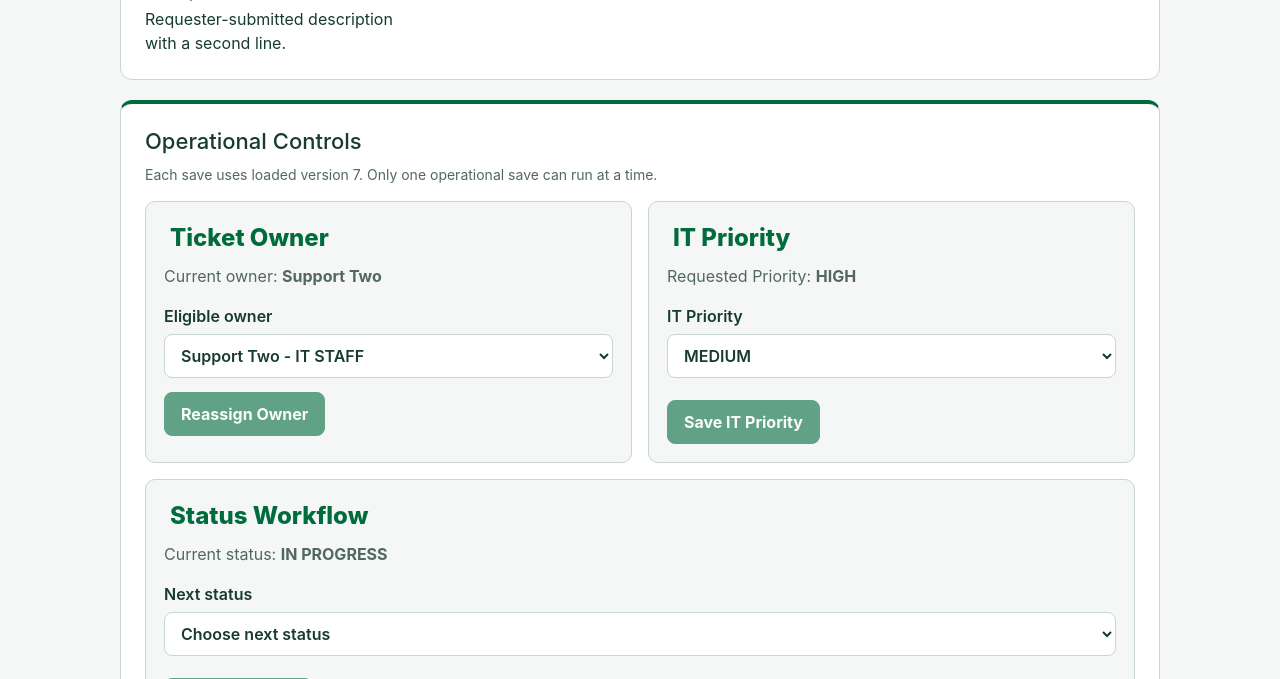
Test: UI-06 integrated Staff Ticket Detail › traps confirmation focus, closes with Escape, and returns focus to the invoking action
The width and height of the screenshot is (1280, 679).
(page scrolled)
Select "Admin Owner - ADMINISTRATOR" in the dropdown labelled "Eligible owner" at (388, 356), box [164, 334, 613, 378]
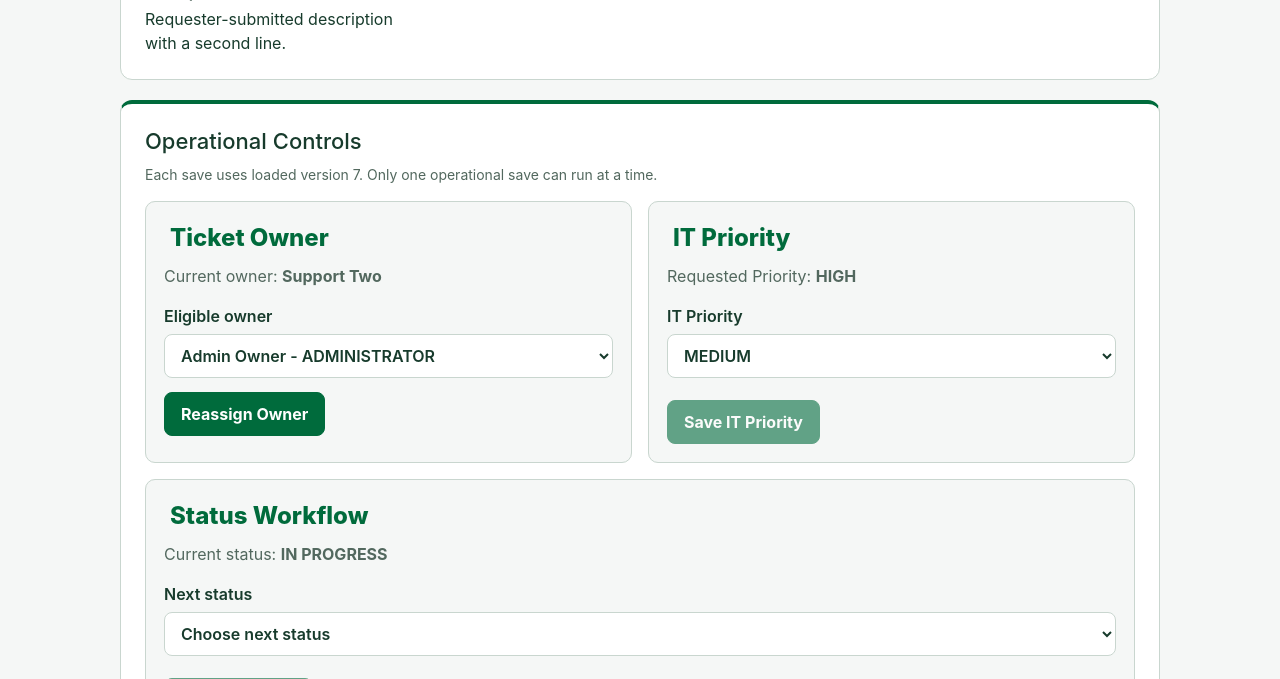
Click the button "Reassign Owner".
click(245, 414)  # box [164, 392, 325, 436]
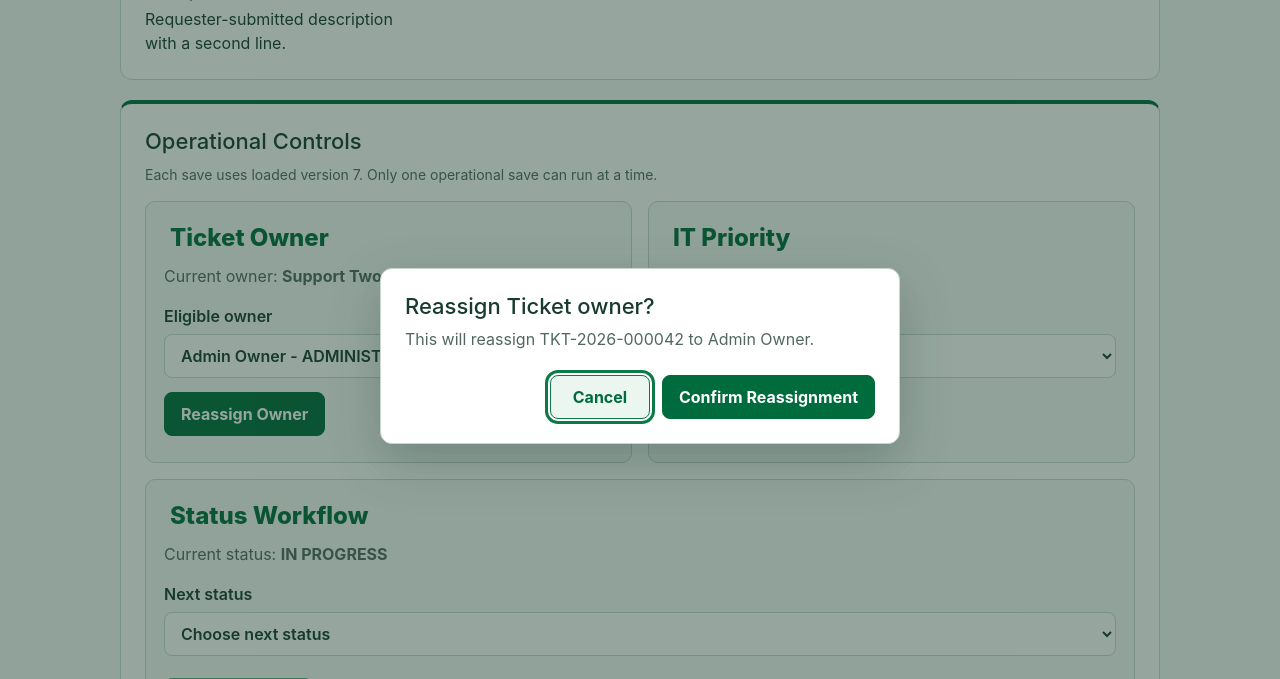
Press Tab in the button "Cancel", box [550, 375, 650, 419]
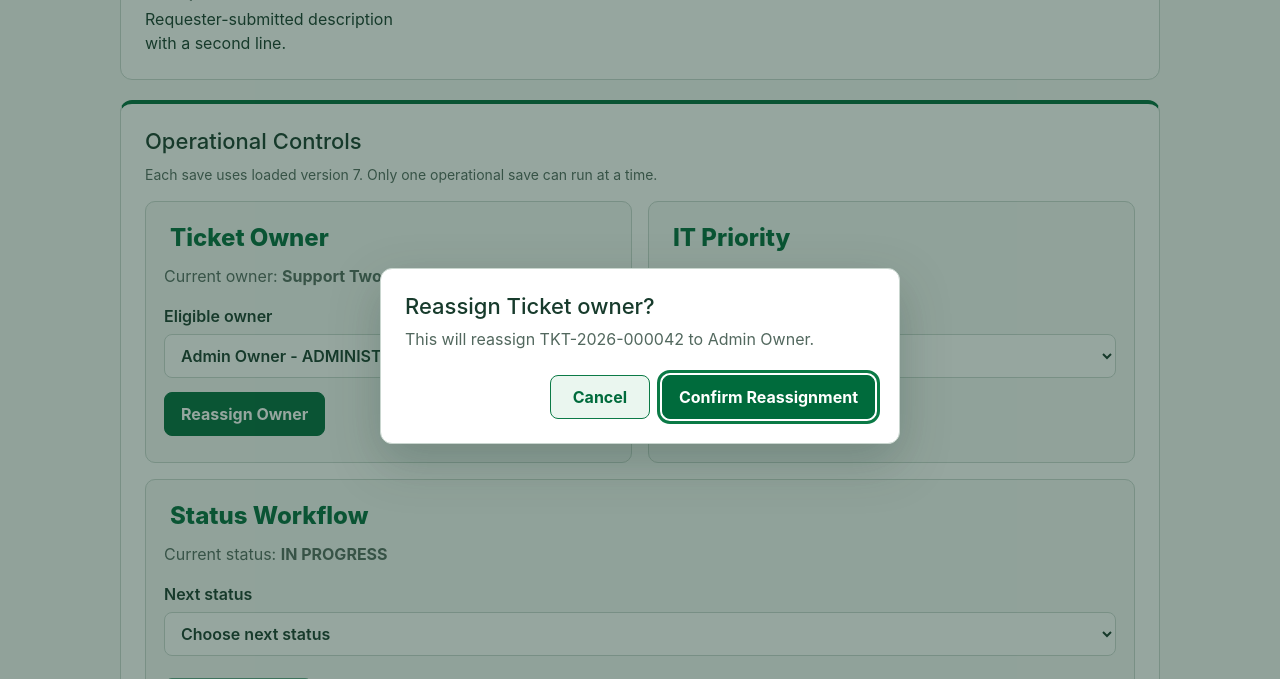
Press Tab in the button "Confirm Reassignment", box [662, 375, 875, 419]
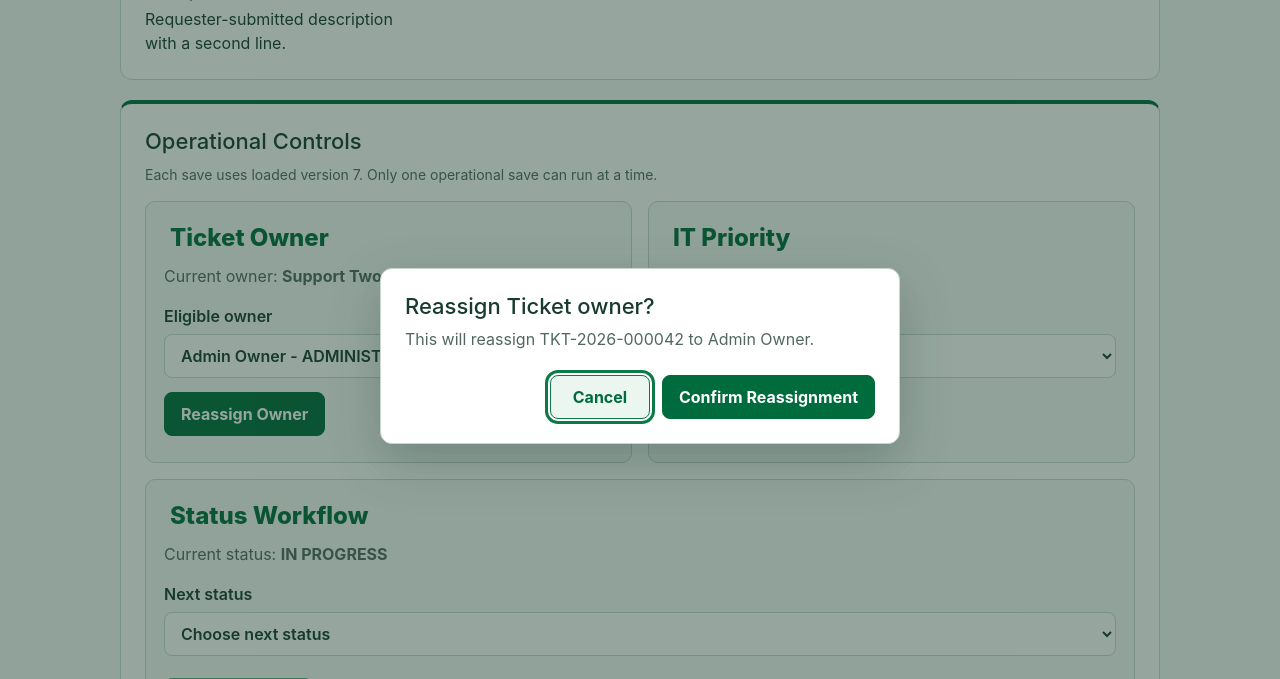
Press Escape in the dialog, box [380, 268, 900, 444]
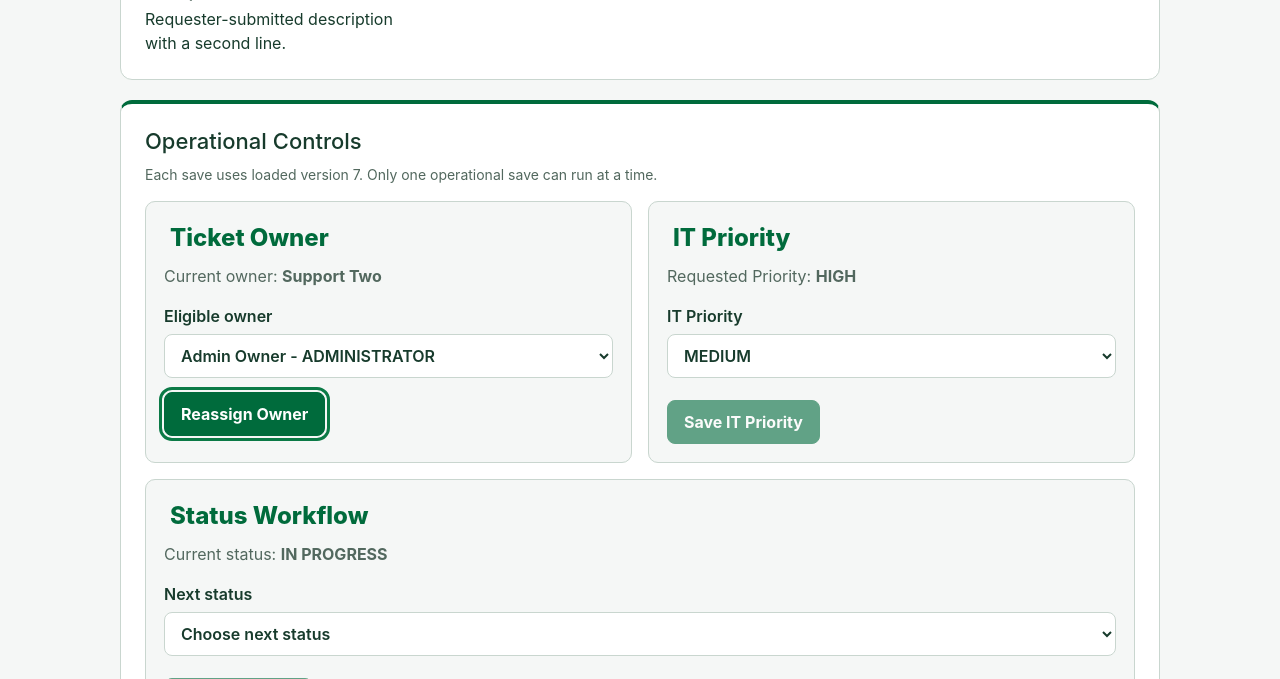
Result: the dialog is gone
